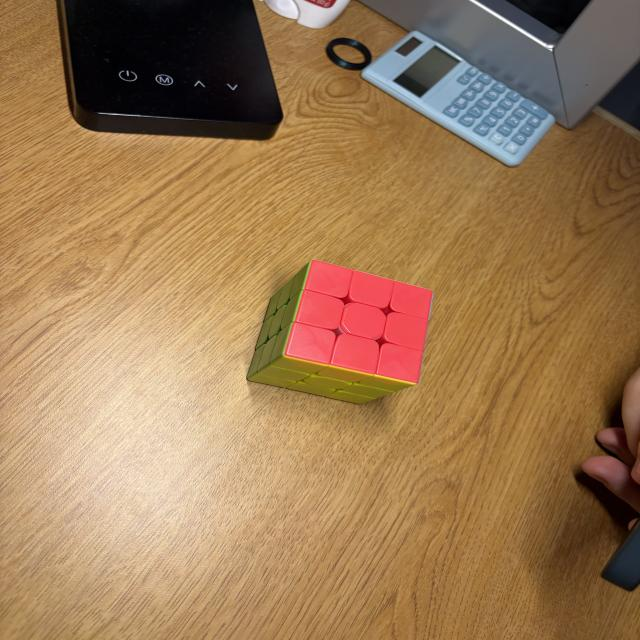Rubiks Cube: (247, 260, 432, 406)
